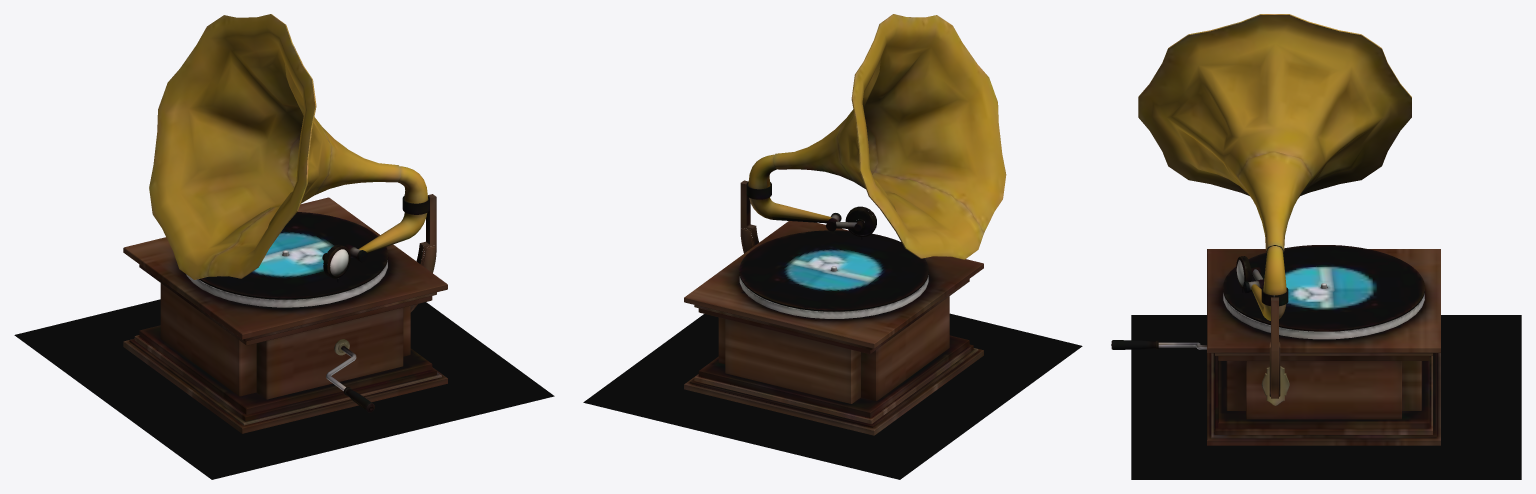
Rendered from obj_phonograph_v2.glb.
The picture shows the model from 3 angles, left to right: view 1: azimuth 30°, elevation 25°; view 2: azimuth 150°, elevation 25°; view 3: azimuth 270°, elevation 25°; orthographic projection. The views are drawn at different scales.
Visible parts, largest first — view 1: phonograph_phonograph-mat_0; view 2: phonograph_phonograph-mat_0; view 3: phonograph_phonograph-mat_0.
Boxes of the visible parts, x1,y1,x2,y2 form: phonograph_phonograph-mat_0: (14,14,554,479); phonograph_phonograph-mat_0: (583,14,1082,479); phonograph_phonograph-mat_0: (1111,14,1521,479).
Bounding box in the file's own units: 0.6728 × 0.7 × 0.7071.
Materials: 2 (1 with a texture image).
